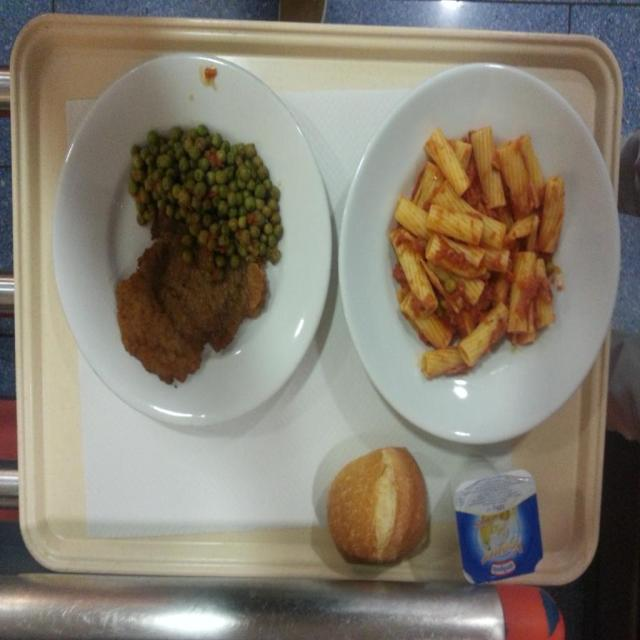plate: (338, 62, 621, 444), (54, 53, 334, 428), (325, 443, 433, 569)
